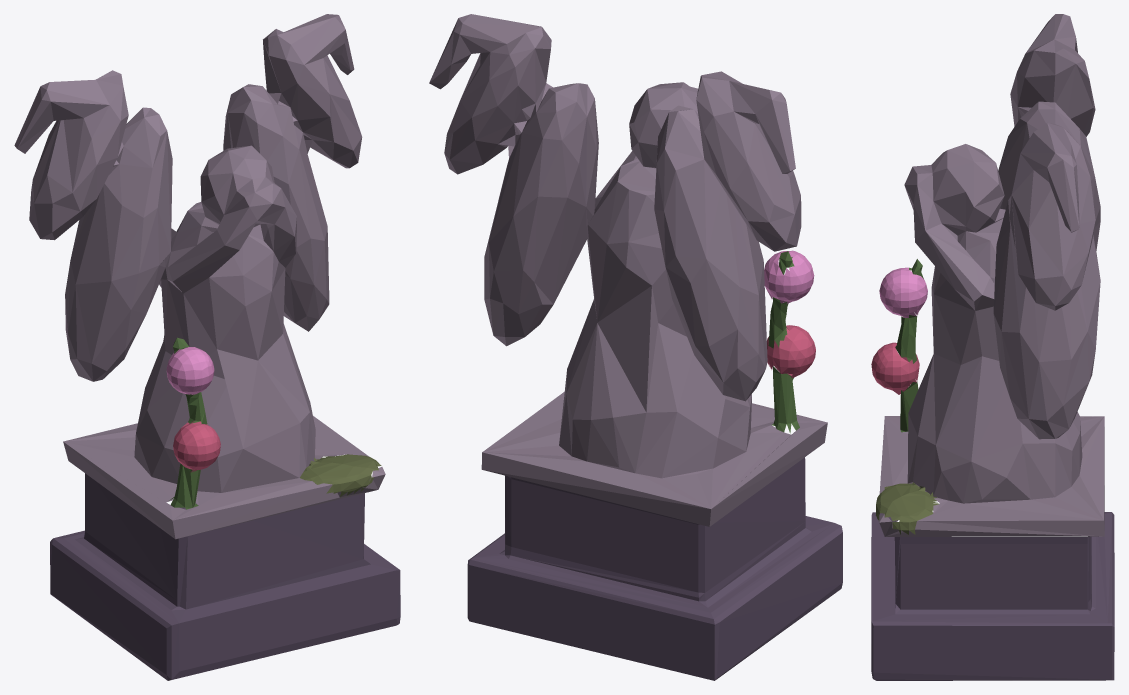
Rendered from weeping_angel.glb.
3 views of the same model, side by side, from view 1: azimuth 30°, elevation 25°; view 2: azimuth 150°, elevation 25°; view 3: azimuth 270°, elevation 25° (orthographic). The views are drawn at different scales.
Visible parts, largest first — view 1: weeping_angel; view 2: weeping_angel; view 3: weeping_angel.
Part boxes in pixels (<box>): weeping_angel: <box>14,14,400,680</box>; weeping_angel: <box>429,14,842,680</box>; weeping_angel: <box>871,14,1114,680</box>.
Size of the model in its own units: 1.45 by 2.21 by 0.9.
